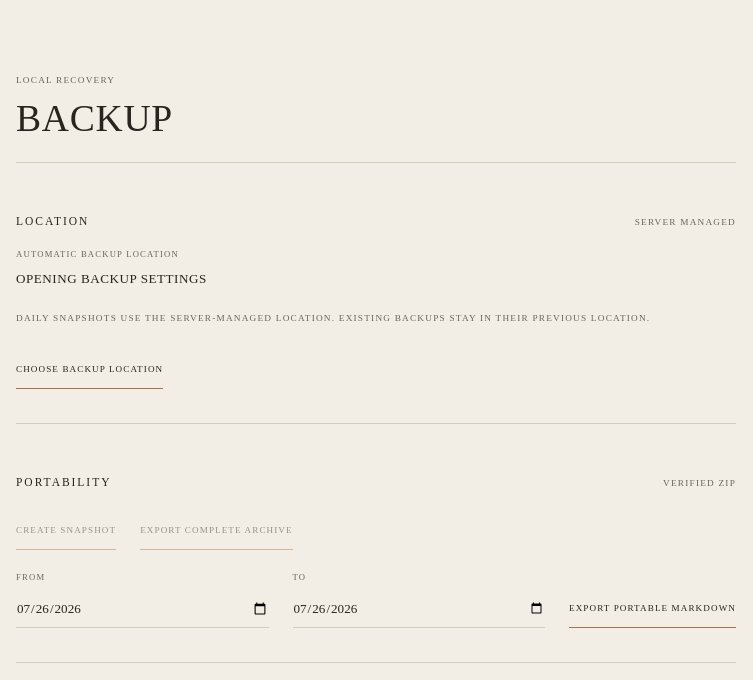
Test case: BackupSettings › sends only an absolute path returned by the typed desktop bridge for server verification
The width and height of the screenshot is (753, 680).
Expected: the text named "Automatic backup location" is shown, [16,271,207,286]
Click the button "CHOOSE BACKUP LOCATION". click: click(90, 369)
box: [16,349,163,389]
(page scrolled)
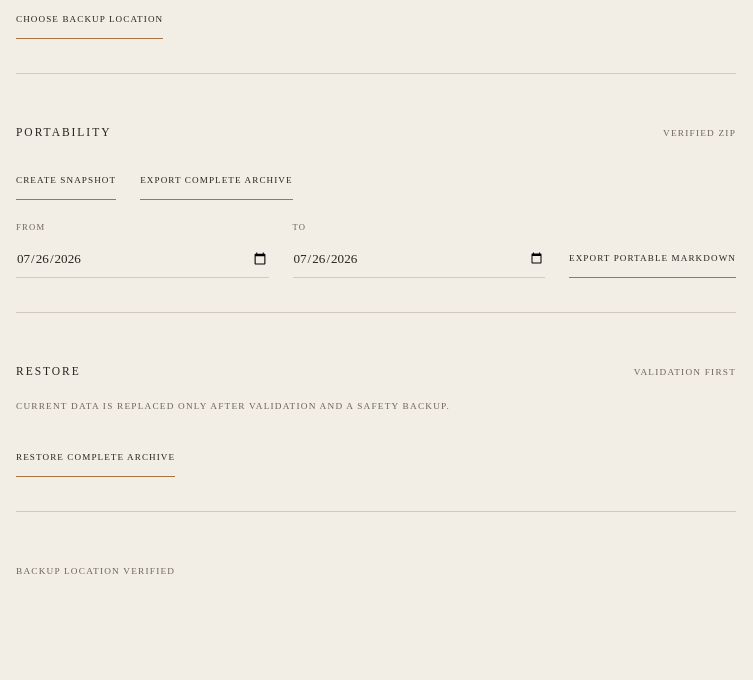
Expected: the text "BACKUP LOCATION VERIFIED" is shown, [16,566,175,576]
